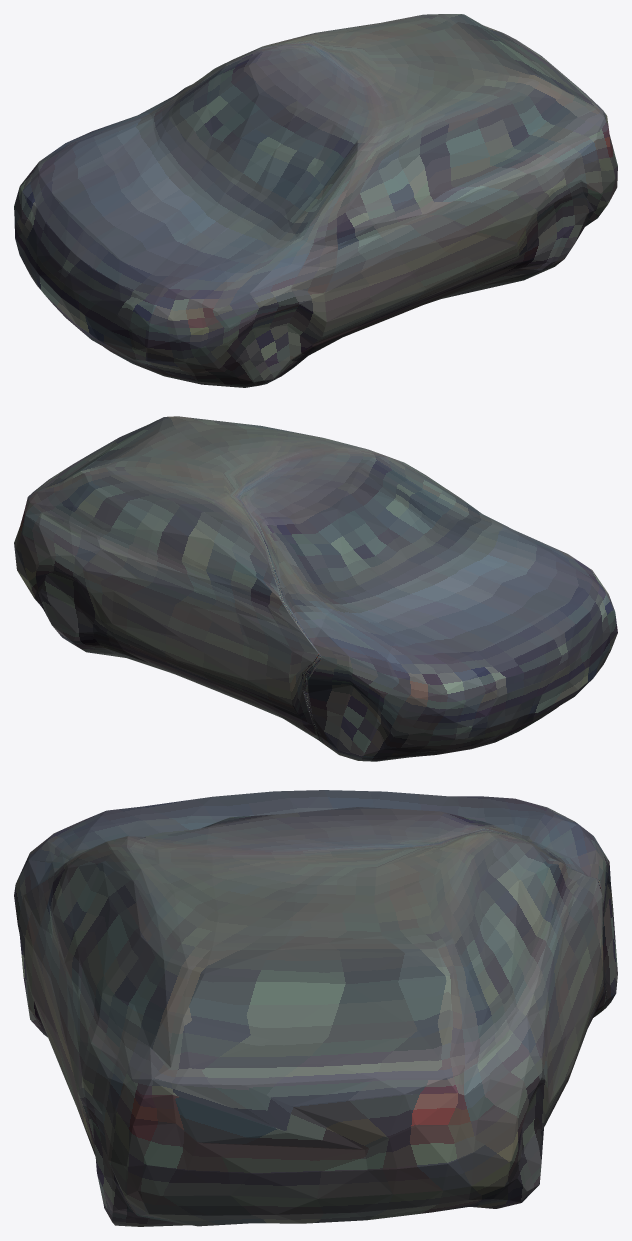
Rendered from video3_135.obj.
3 renders of one model, top to bottom at view 1: azimuth 30°, elevation 25°; view 2: azimuth 150°, elevation 25°; view 3: azimuth 270°, elevation 25°, orthographic. The views are drawn at different scales.
Bounding box in the file's own units: 1 × 0.3832 × 0.6541.
1 material, 1 textured.
